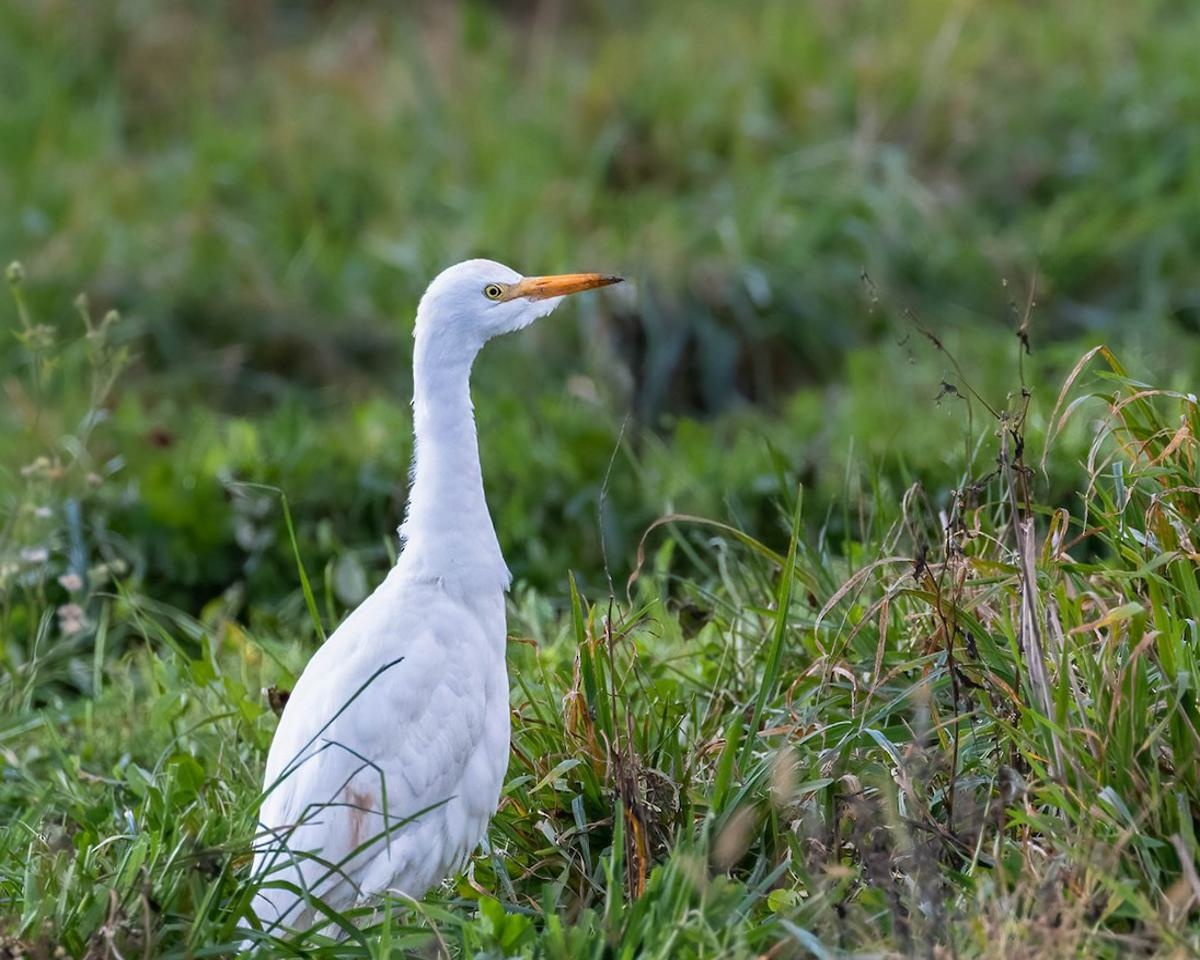egret: (178, 233, 645, 950)
